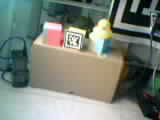duck: (90, 12, 110, 41)
